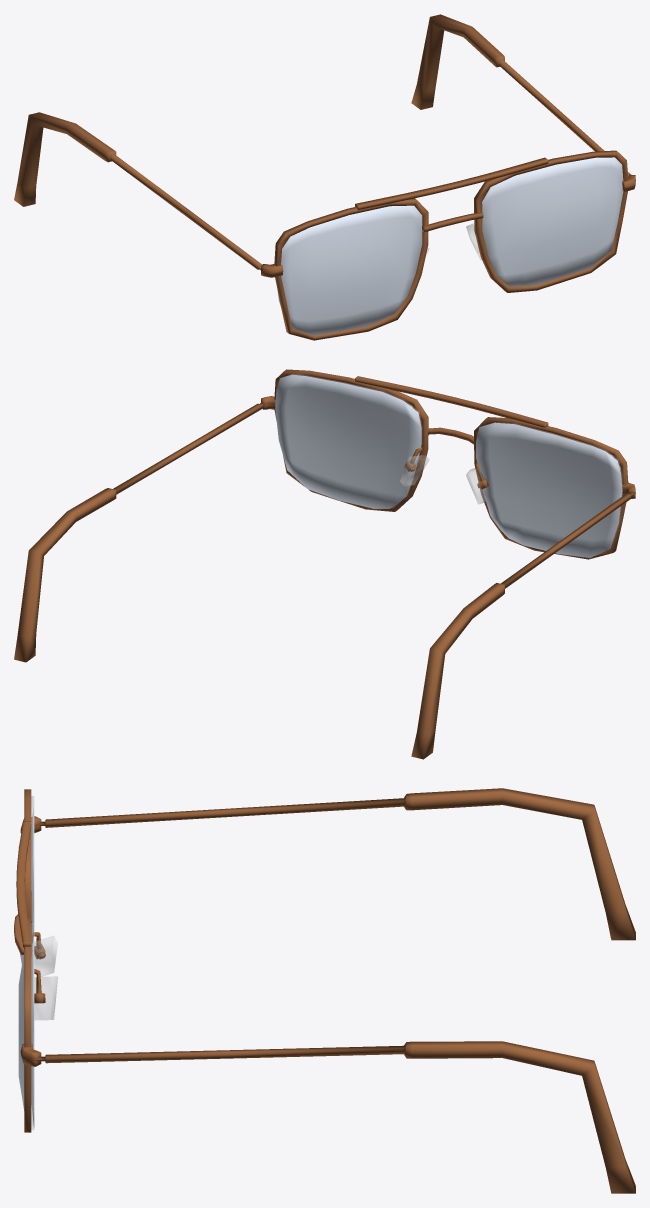
The model's file is glass2.glb.
3 renders of one model, top to bottom at view 1: azimuth 30°, elevation 25°; view 2: azimuth 150°, elevation 25°; view 3: azimuth 270°, elevation 25°, orthographic. The views are drawn at different scales.
Visible parts, largest first — view 1: glasses_2; view 2: glasses_2; view 3: glasses_2.
Part boxes in pixels (bbox=[...]): glasses_2: bbox=[14, 14, 635, 340]; glasses_2: bbox=[14, 369, 635, 759]; glasses_2: bbox=[14, 788, 635, 1193].
Bounding box in the file's own units: 0.2299 × 0.074 × 0.23.
